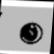correct: (13, 13, 51, 47)
